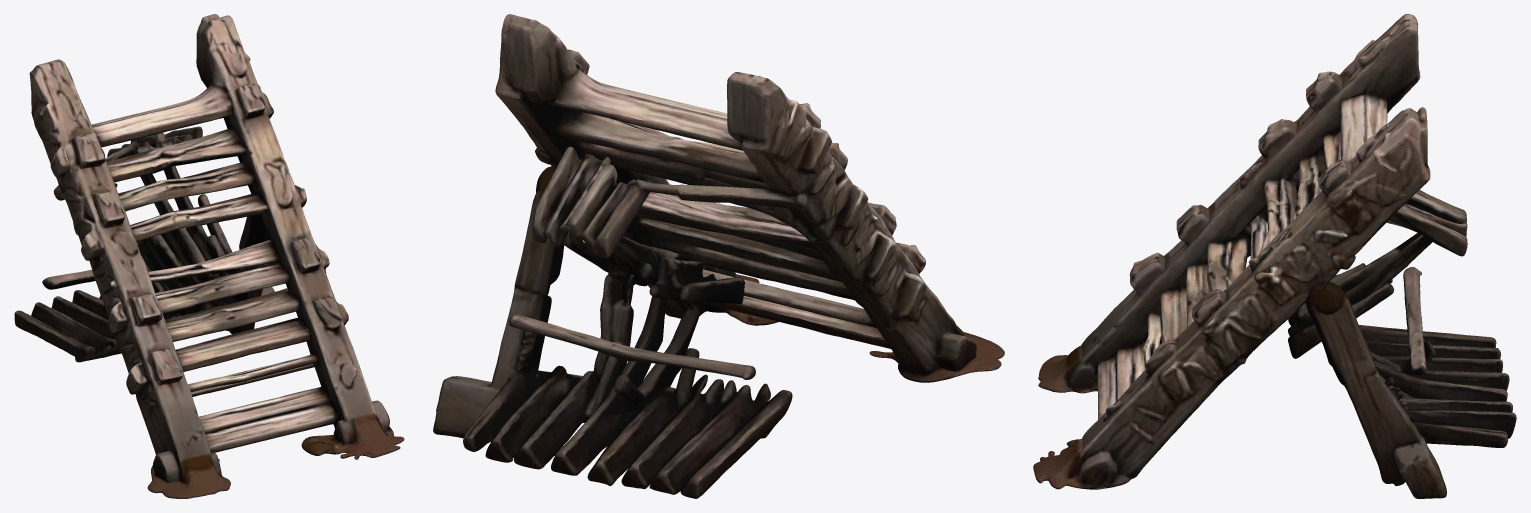
File: field_broken_ladder_01.glb
3 renders of one model, left to right at view 1: azimuth 30°, elevation 25°; view 2: azimuth 150°, elevation 25°; view 3: azimuth 270°, elevation 25°, orthographic. The views are drawn at different scales.
Visible parts, largest first — view 1: geometry_0; view 2: geometry_0; view 3: geometry_0.
Part boxes in pixels (x1=…): geometry_0: x1=14, y1=14, x2=404, y2=498; geometry_0: x1=433, y1=14, x2=1004, y2=498; geometry_0: x1=1033, y1=14, x2=1516, y2=498.
Bounding box in the file's own units: 0.7306 × 0.828 × 1.
1 material, 1 textured.
